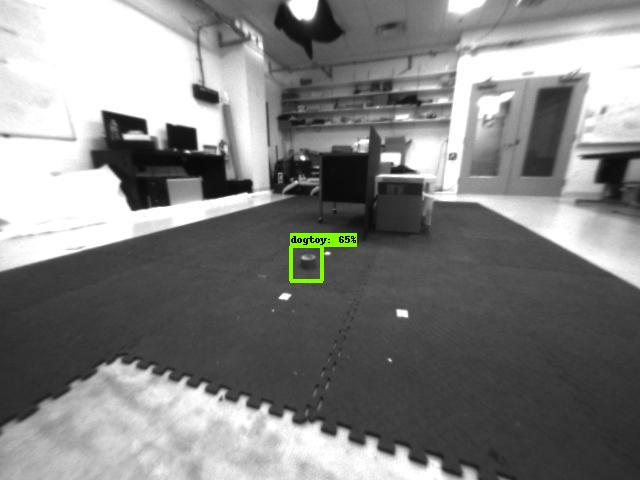dogtoy: (289, 247, 323, 278)
